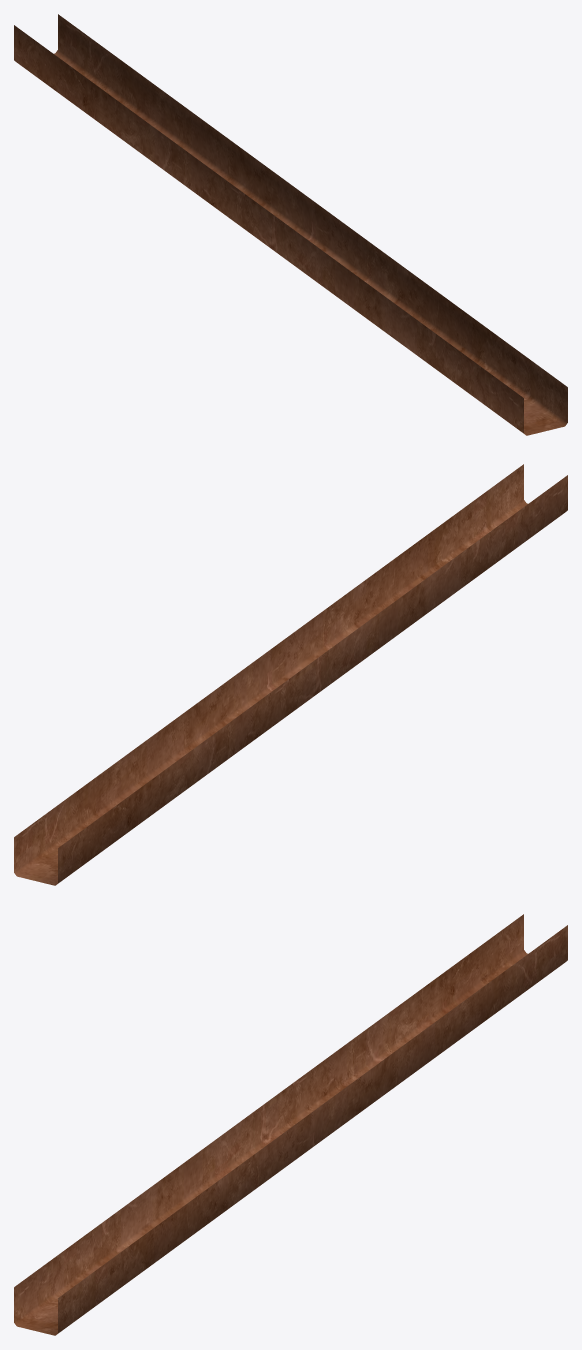
The model's file is ceiling_stones_02.glb.
3 views of the same model, one above another, from view 1: azimuth 30°, elevation 25°; view 2: azimuth 150°, elevation 25°; view 3: azimuth 330°, elevation 25° (orthographic).
Visible parts, largest first — view 1: ceiling_stones_02; view 2: ceiling_stones_02; view 3: ceiling_stones_02.
Part boxes in pixels (x1=…): ceiling_stones_02: x1=14, y1=14, x2=567, y2=435; ceiling_stones_02: x1=14, y1=464, x2=567, y2=885; ceiling_stones_02: x1=14, y1=914, x2=567, y2=1335.
Bounding box in the file's own units: 0.3 × 0.25 × 6.
Materials: 1 (1 with a texture image).
